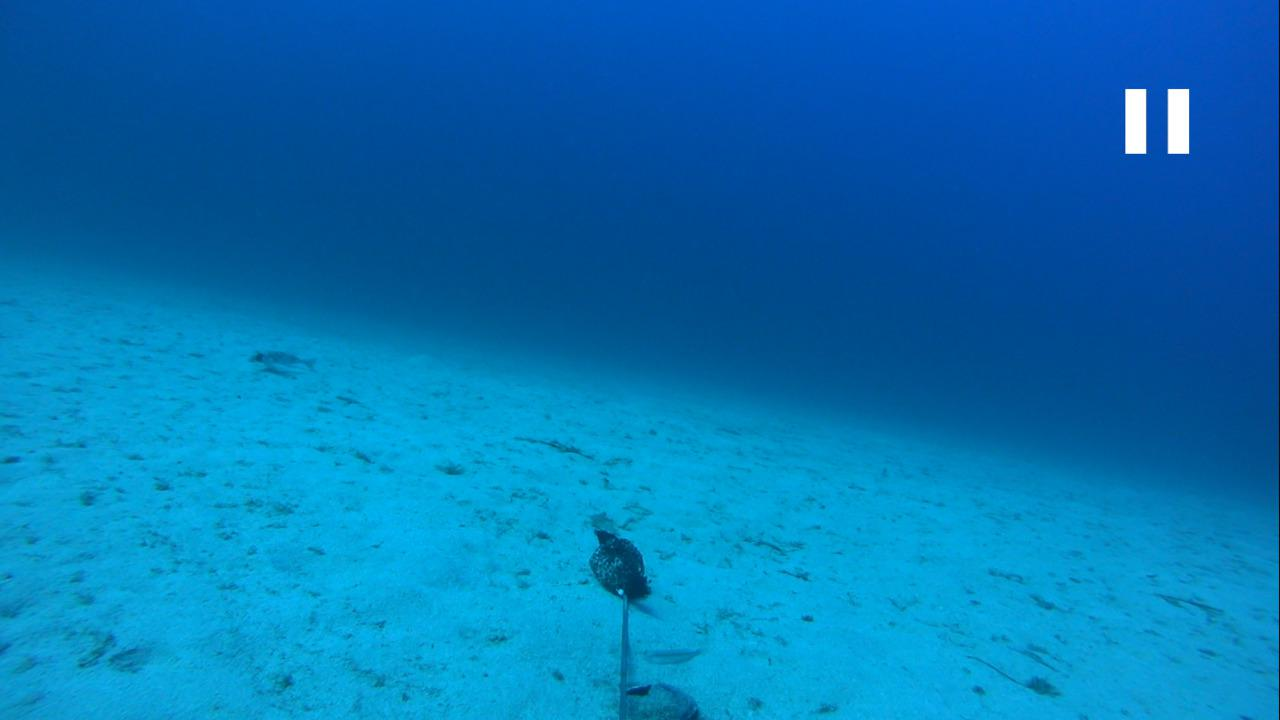dactylopterus: (242, 336, 321, 384)
raor: (640, 643, 704, 669)
